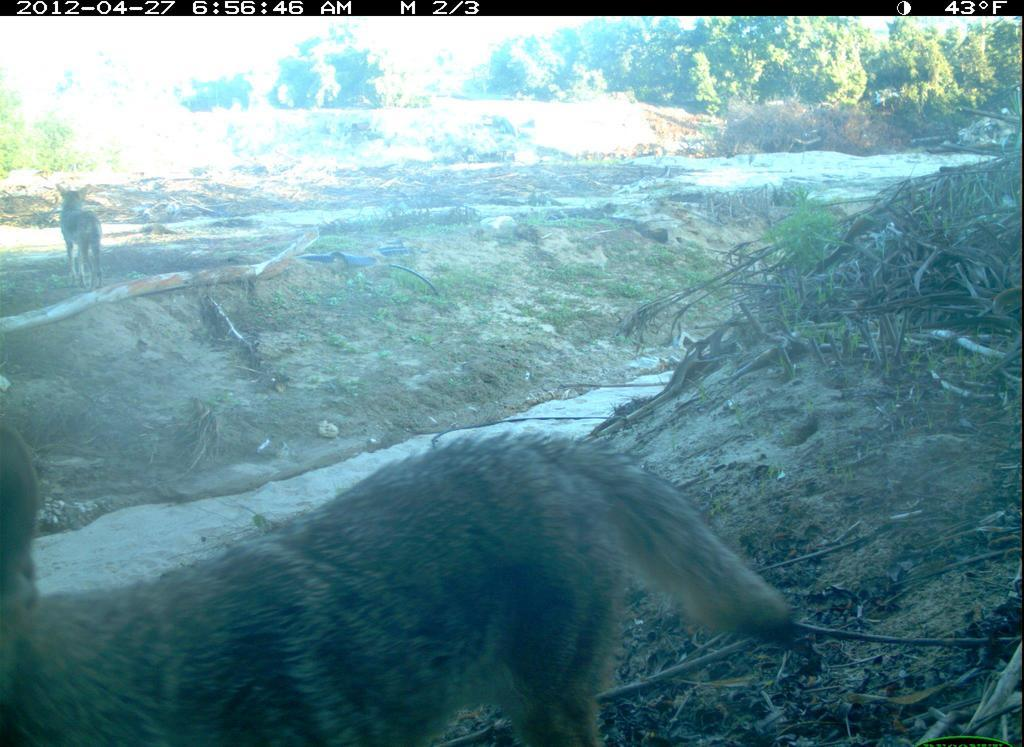coyote: (1, 414, 807, 747), (54, 180, 114, 295)
